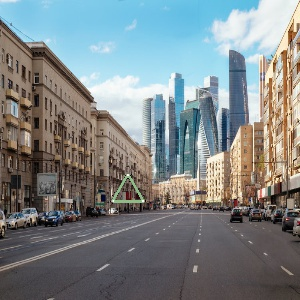triangle: (110, 172, 147, 204)
